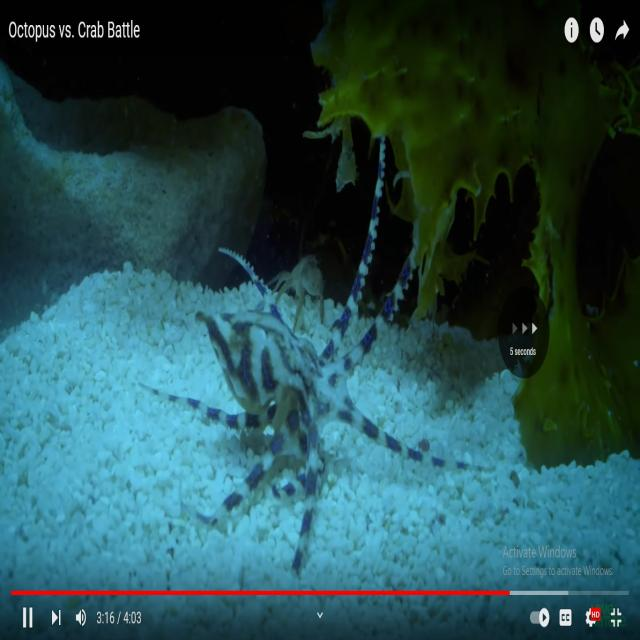blue_ringed_octopus: (137, 132, 494, 580)
